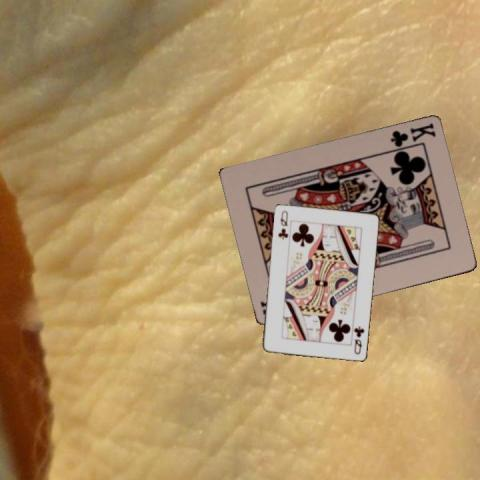Kc: (386, 120, 436, 149)
Qc: (351, 323, 365, 356), (276, 207, 289, 241)
